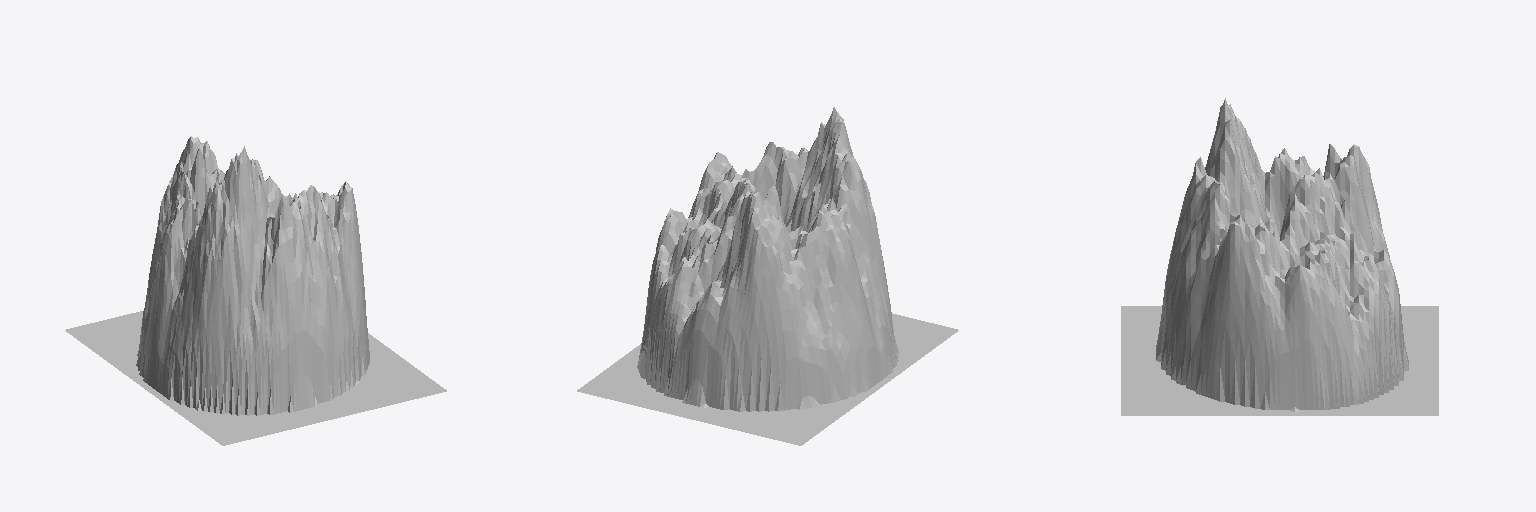
The model's file is mou_010.obj.
3 renders of one model, left to right at view 1: azimuth 30°, elevation 25°; view 2: azimuth 150°, elevation 25°; view 3: azimuth 270°, elevation 25°, orthographic.
Visible parts, largest first — view 1: 平面.002; view 2: 平面.002; view 3: 平面.002.
Part boxes in pixels (x1,y1,x2,y2): 平面.002: (65,136,446,445); 平面.002: (577,107,958,445); 平面.002: (1121,98,1438,415).
Size of the model in its own units: 6.19 by 7.33 by 7.57.